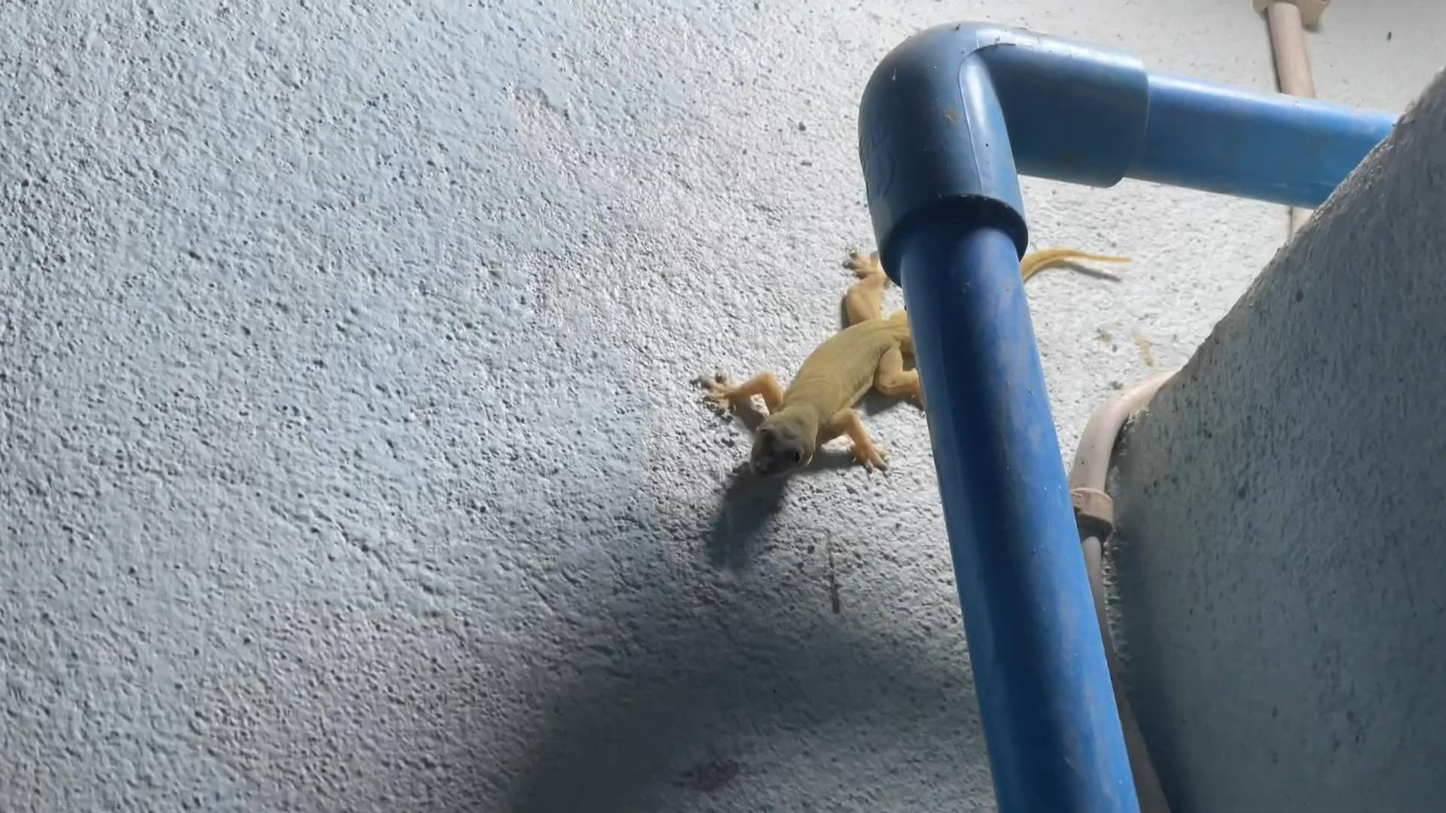lizard: (667, 253, 885, 542)
